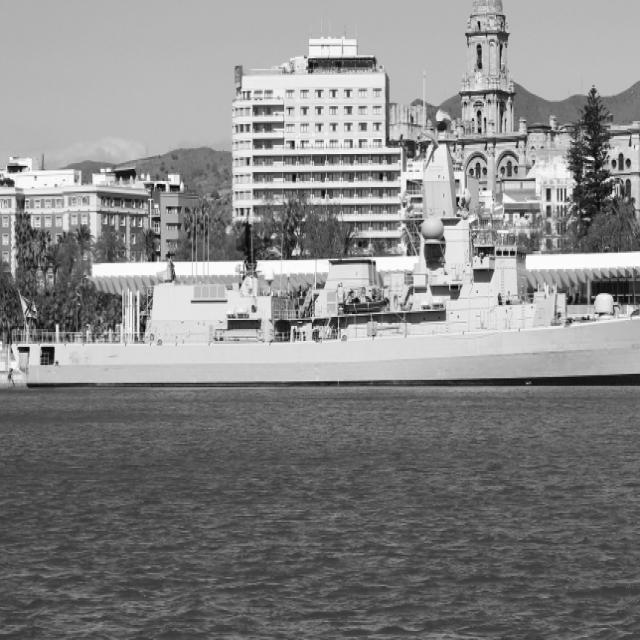Fragata: (7, 136, 640, 400)
